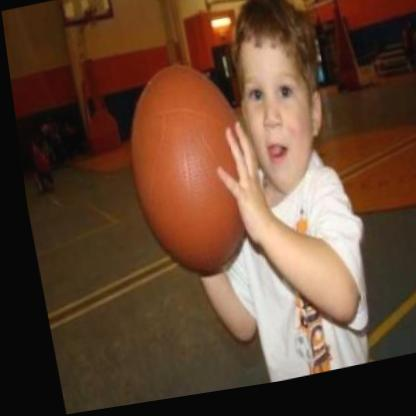basketball: (107, 53, 263, 296)
